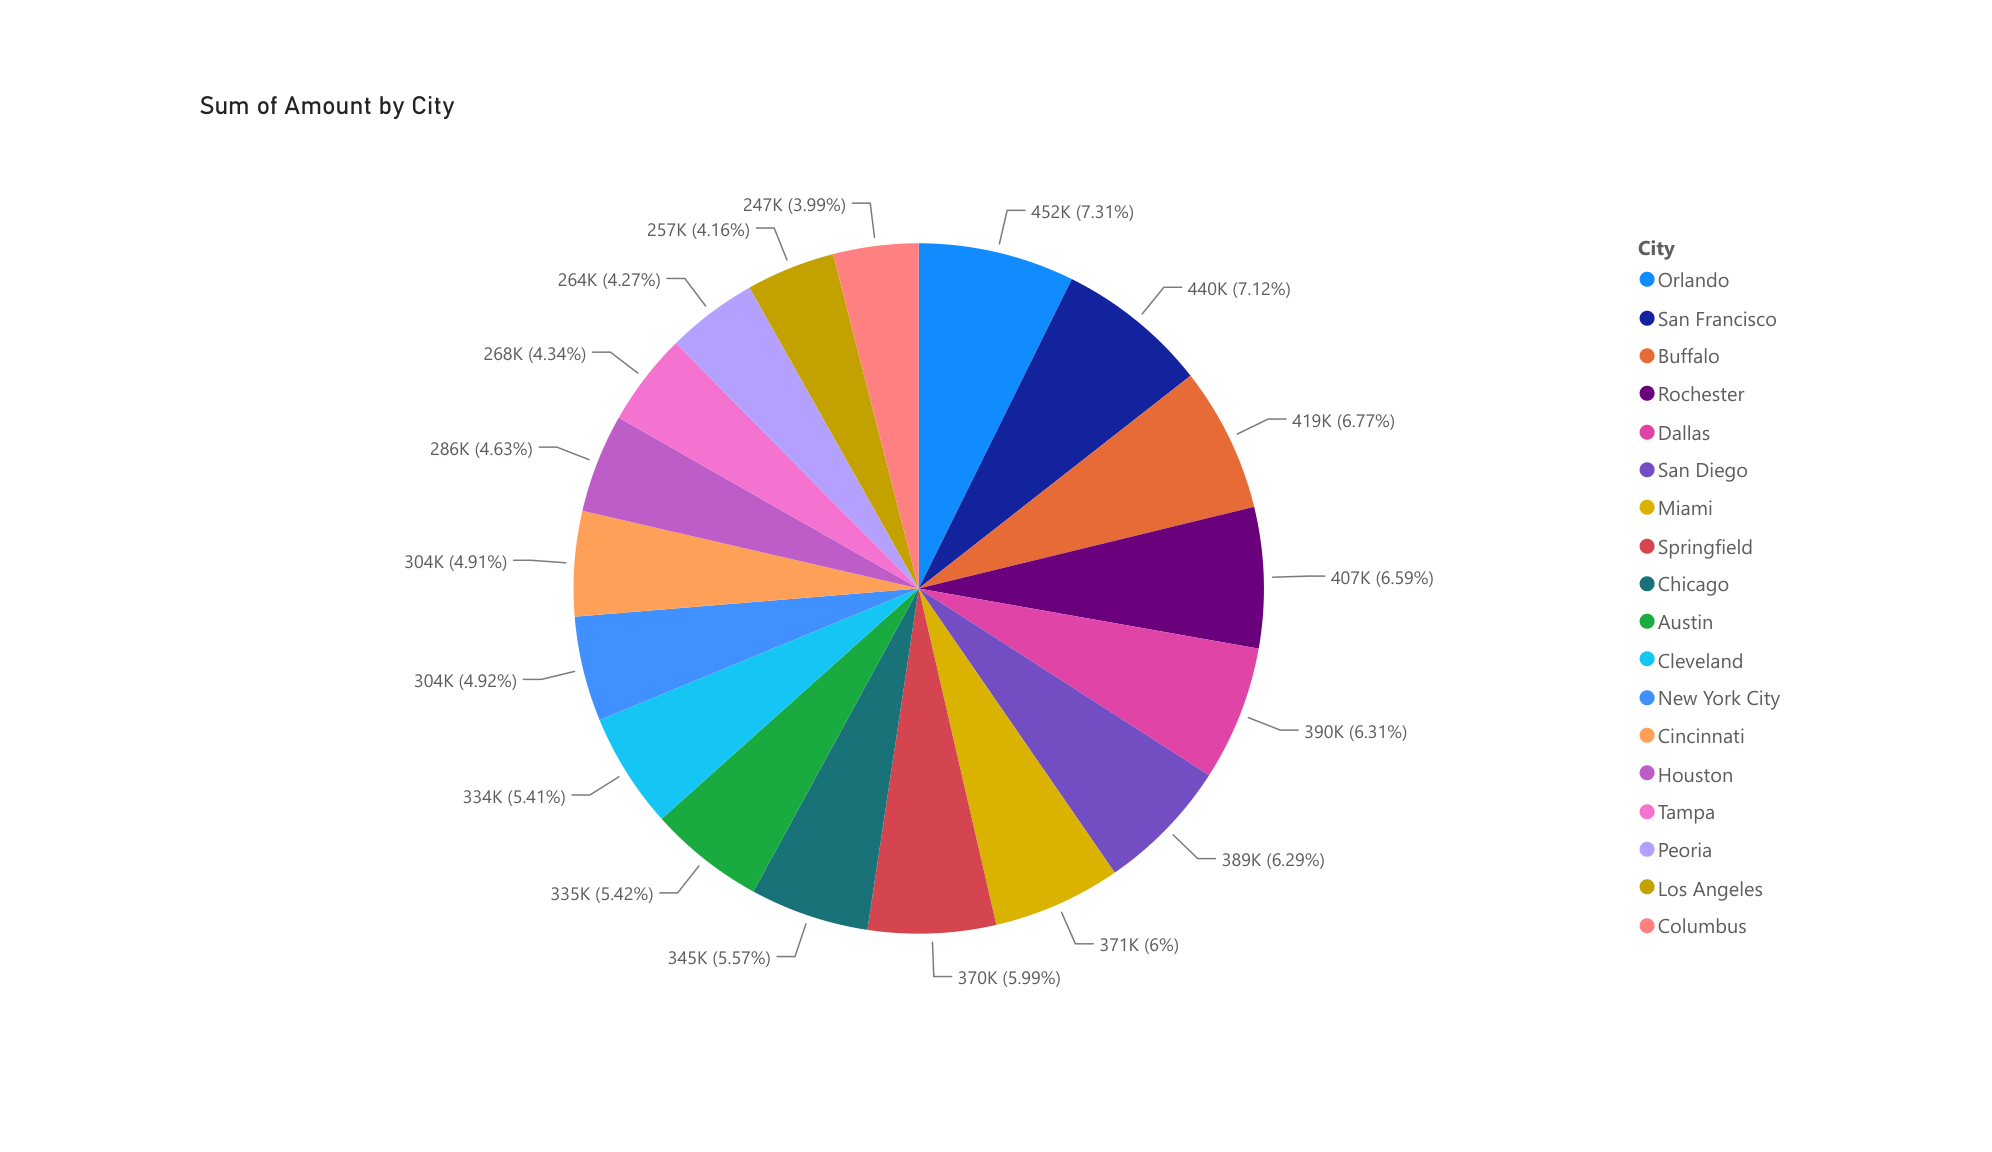

Layout of this report page (visuals, bound fields, positions):
{"tool":"powerbi","page":{"name":"Page 3","canvas":[1280,720],"ordinal":2},"visuals":[{"type":"pieChart","fields":{"Category":["Sales_Dataset.City"],"Y":["Sum(Sales_Dataset.Amount)"]},"box":[103.9,35.9,1073.4,646.3],"z":0}]}

Visuals, with their boxes in screenshot pixels (x1, y1, x2, y2), scaled from the page's 1280x720 canvas onto the 1992x1152 screenshot:
pieChart - Sales_Dataset.City x Sum(Sales_Dataset.Amount): [162,57,1832,1092]
